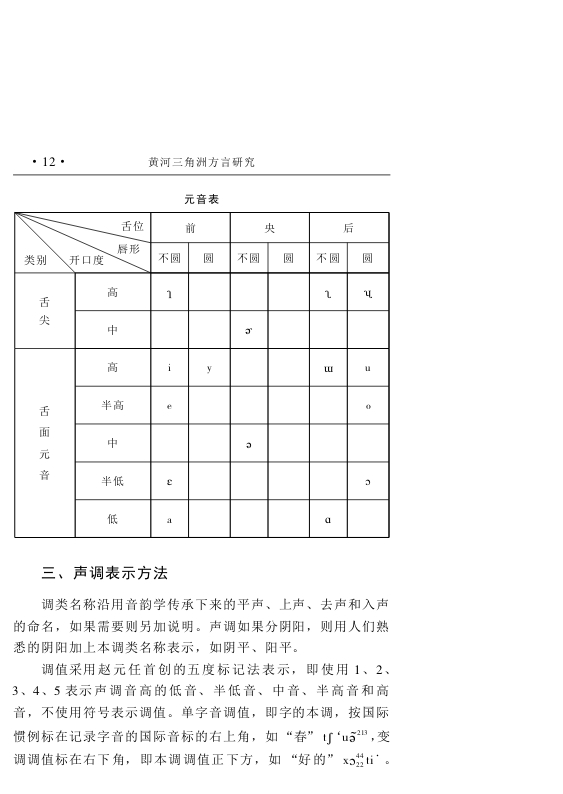table: (14, 212, 389, 539)
